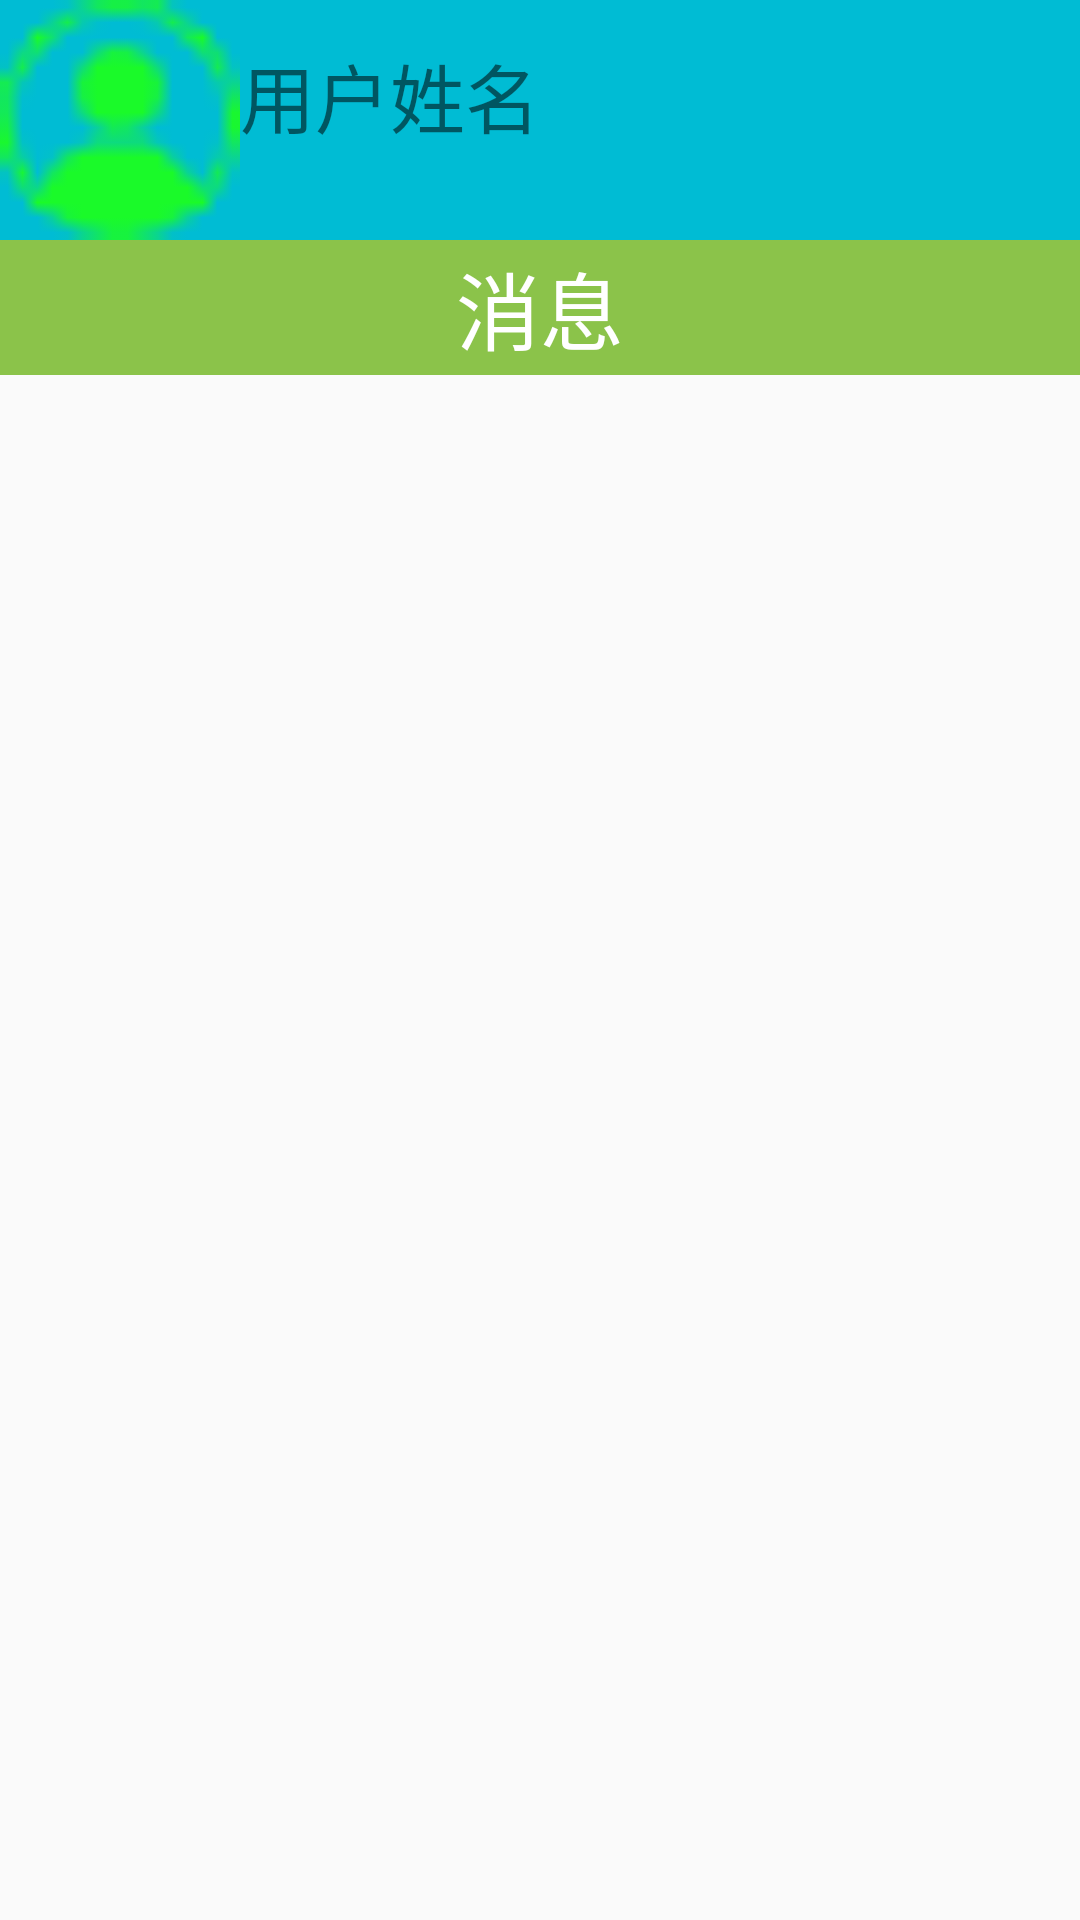

Named icons in this screenshot (1080 × 1920) and their centers, point (x, y):
head: point (120, 120)
